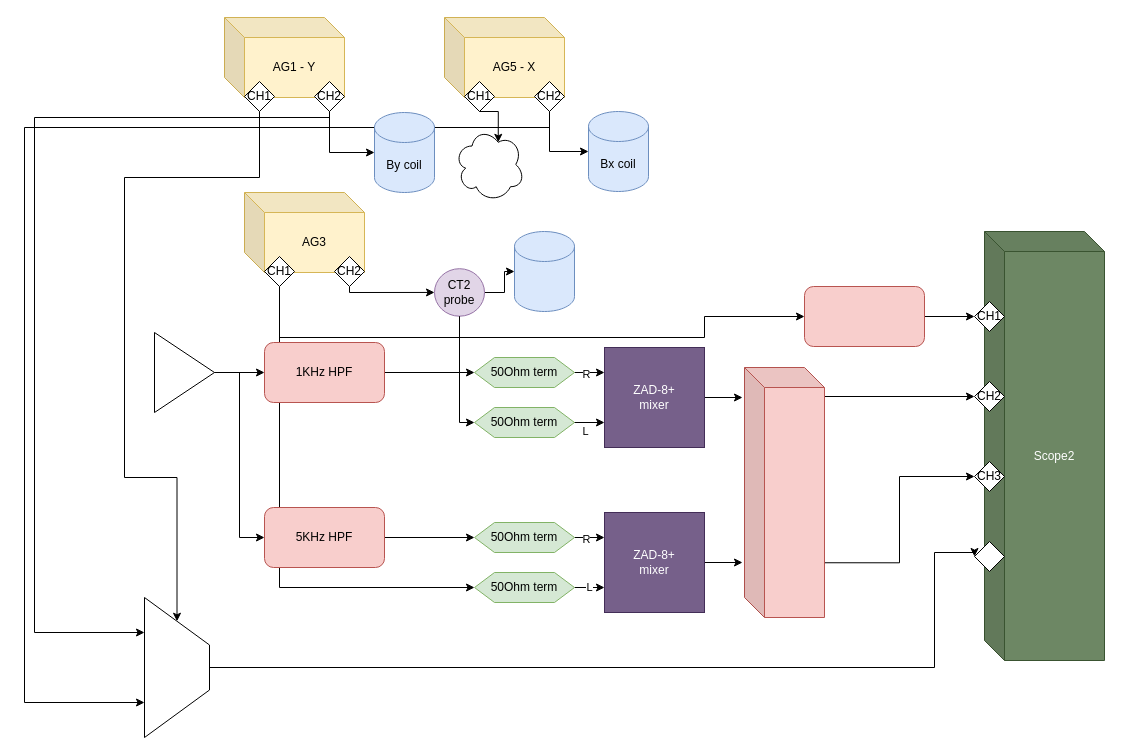
Image size: 1122x755. Some labels were removed from this diagram. The shapes that lost their labels are listed below. From the top down, each one's centre as x and y in pixels, then its label:
the point at 489,164: Scopes sync
the point at 544,271: Bz coil
the point at 864,316: 5KHz LPF
the point at 184,372: BPD440
the point at 784,492: SR640 5 KHz LPF
the point at 989,556: CH4
the point at 177,667: Transverse ref MUX
